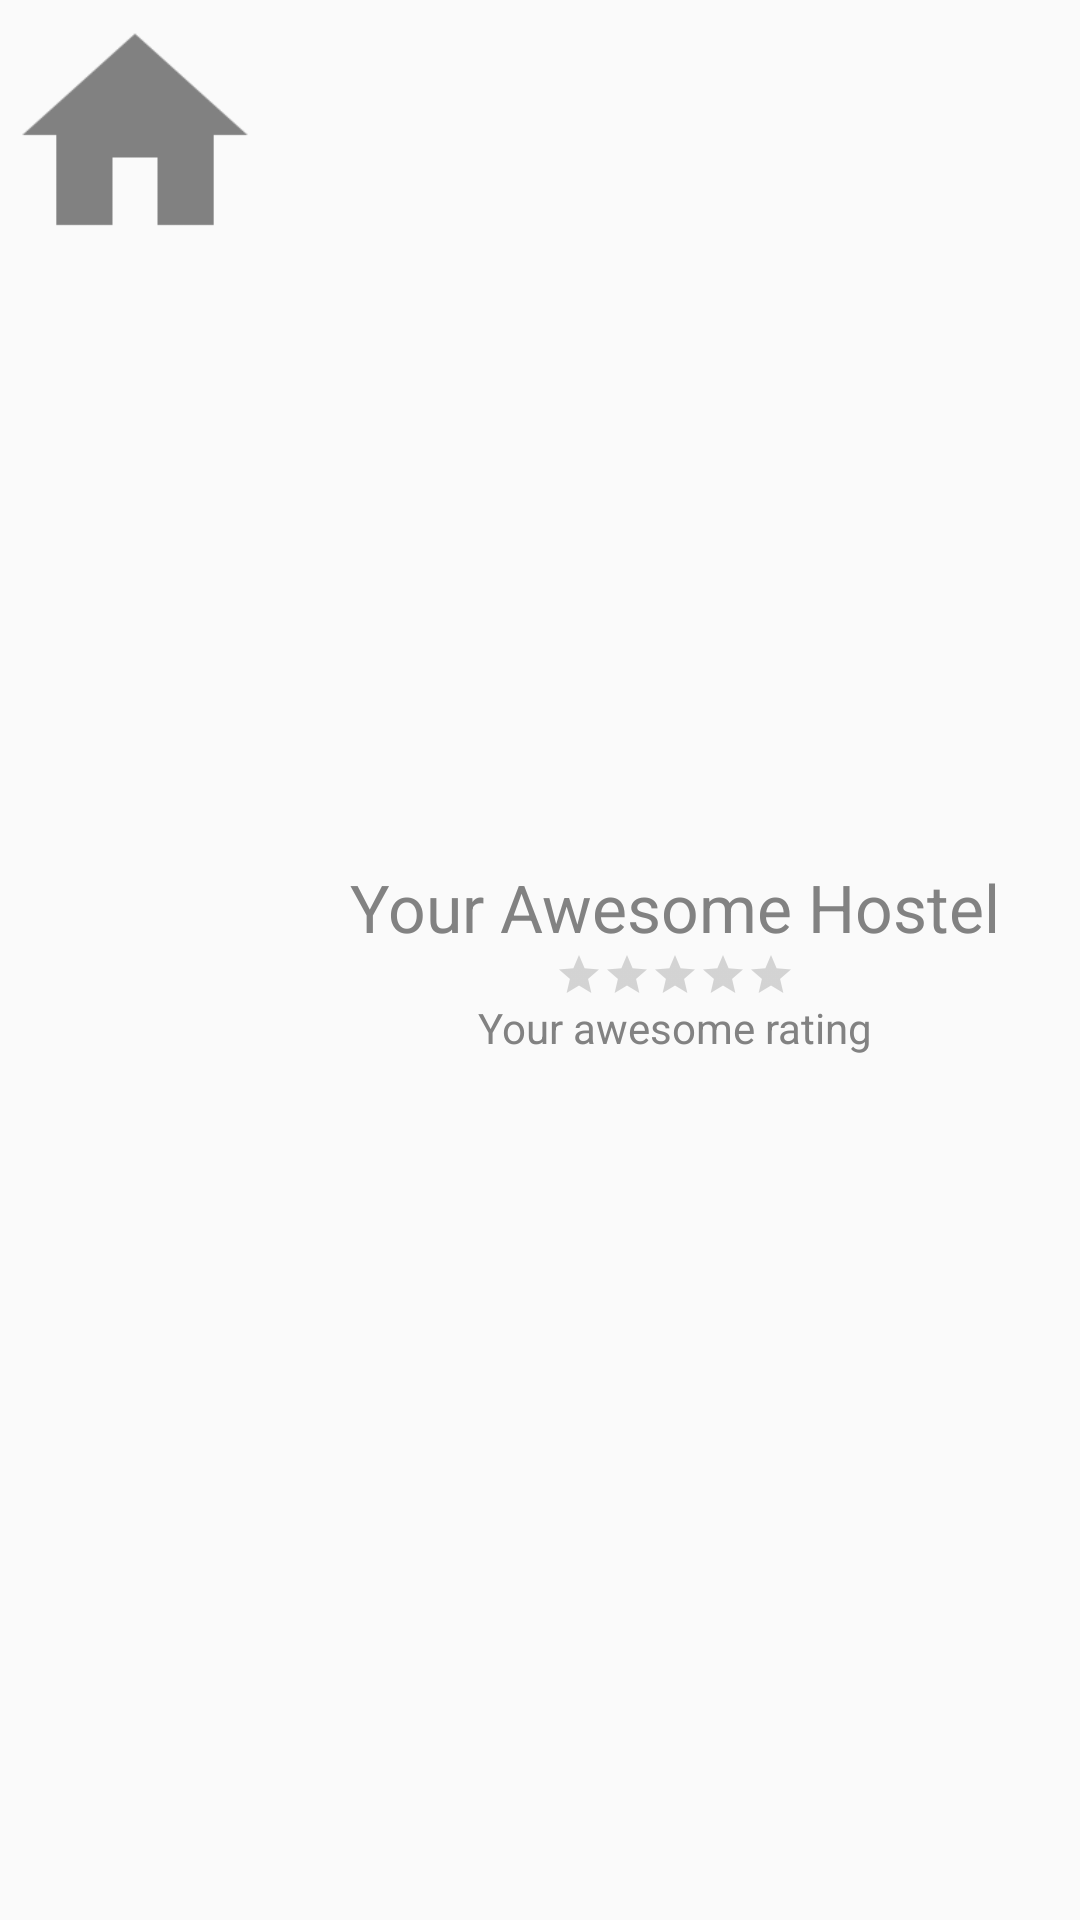

Point at icon controls on the screen. Image size 1080*1920, points as [x,y].
Hostel Thumbnail: [135,129]
